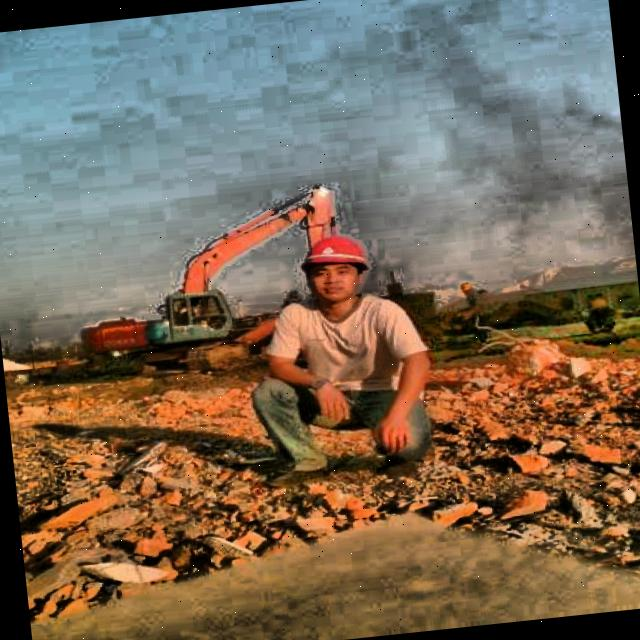helmet: (282, 223, 380, 319)
